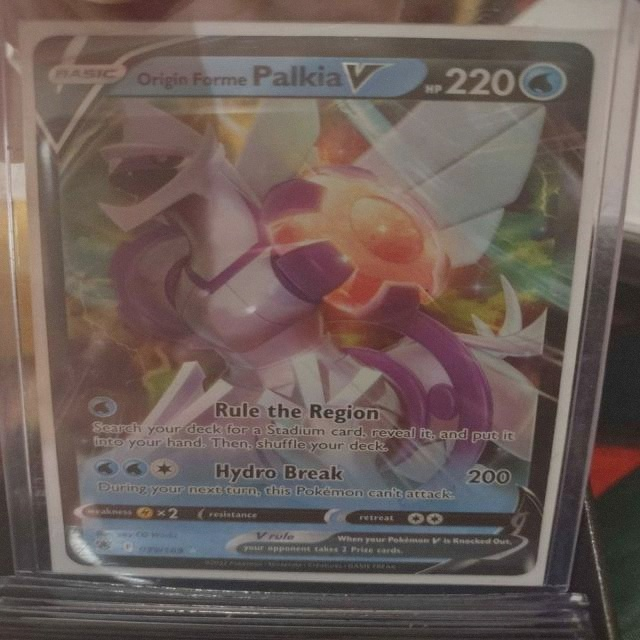card: (30, 32, 602, 578)
